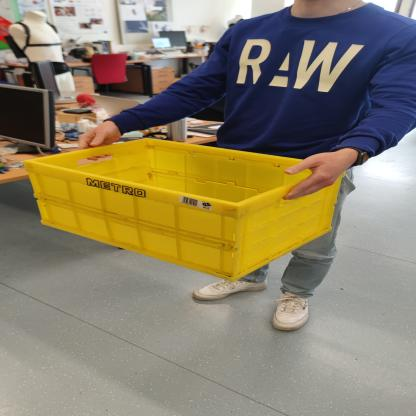box: (19, 132, 351, 280)
